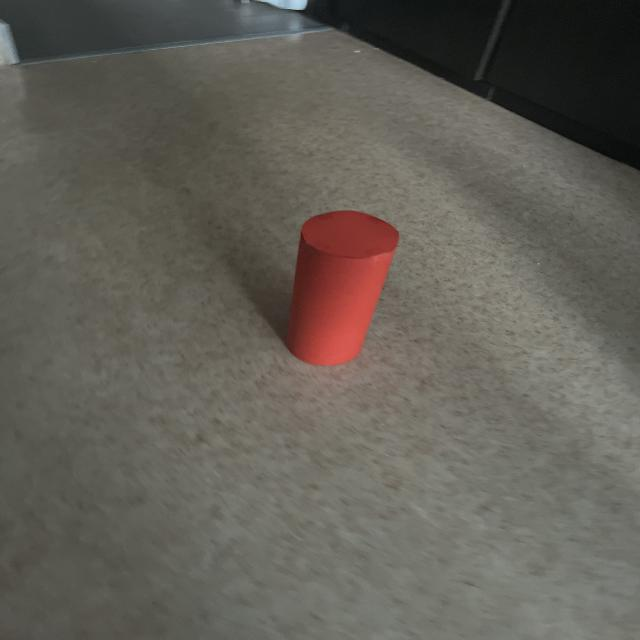przeszkoda: (286, 211, 399, 365)
